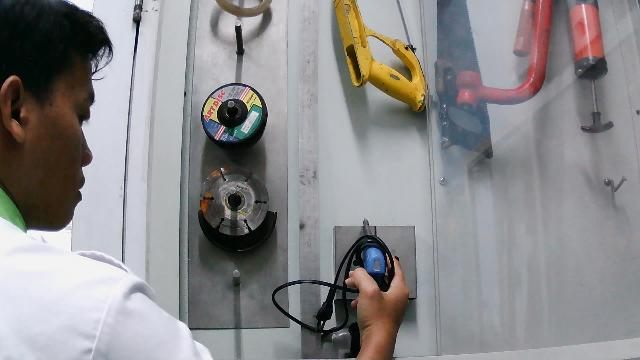solder_electrical: (290, 215, 412, 360)
